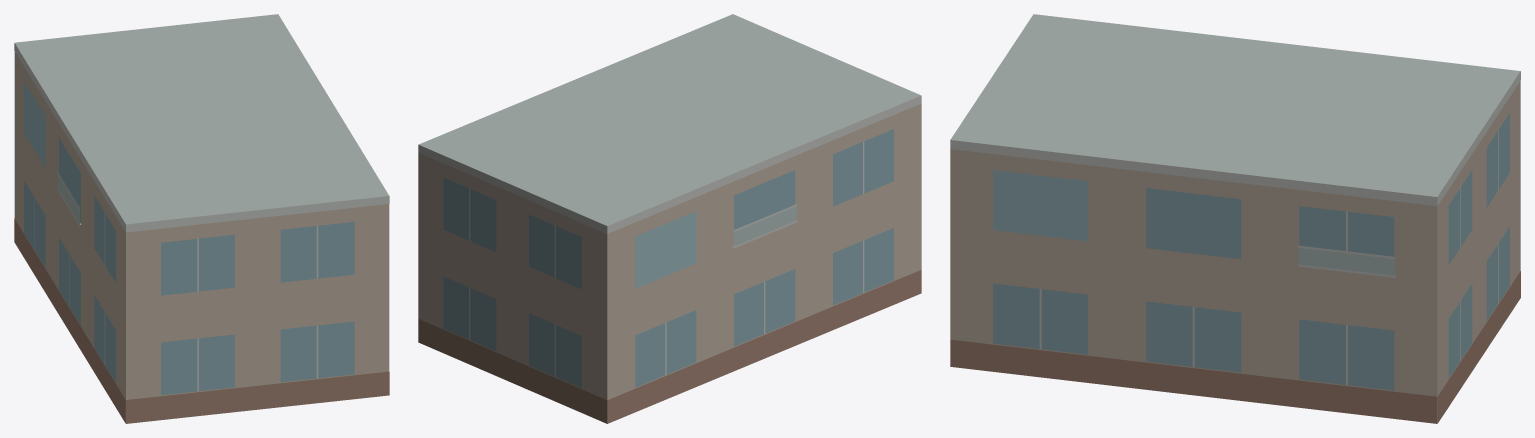
The model's file is survey-upis-32799750.glb.
The picture shows the model from 3 angles, left to right: view 1: azimuth 30°, elevation 25°; view 2: azimuth 150°, elevation 25°; view 3: azimuth 270°, elevation 25°; orthographic projection. The views are drawn at different scales.
Parts seen in each view (by area): view 1: survey-upis-32799750.tmp; view 2: survey-upis-32799750.tmp; view 3: survey-upis-32799750.tmp.
Boxes of the visible parts, x1,y1,x2,y2 form: survey-upis-32799750.tmp: (14,14,389,423); survey-upis-32799750.tmp: (418,14,921,423); survey-upis-32799750.tmp: (950,14,1520,423).
Size of the model in its own units: 10.57 by 6.1 by 13.92.
